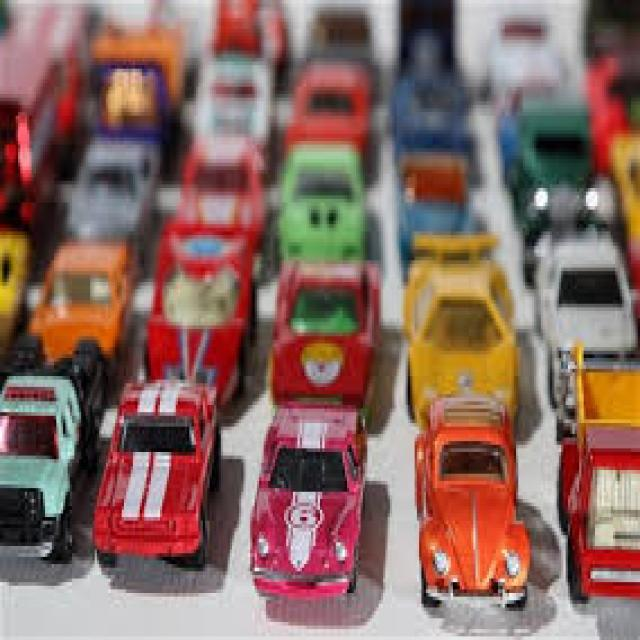Car: (412, 391, 530, 611), (248, 402, 367, 600)
